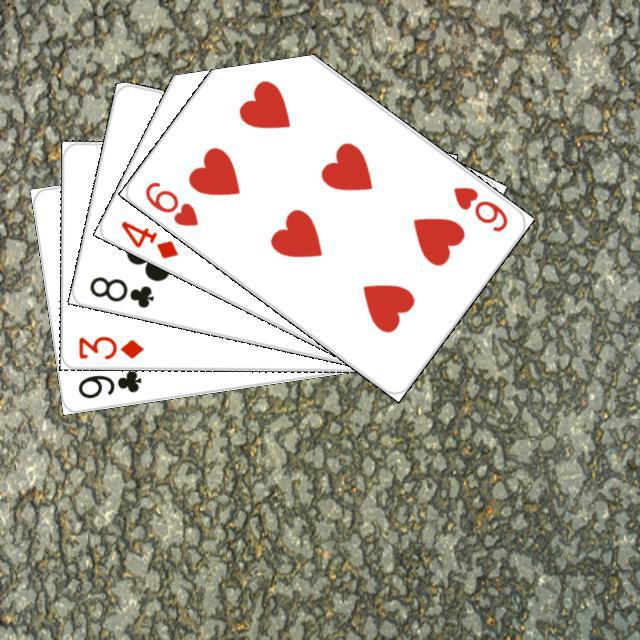3d: (73, 331, 145, 361)
4d: (116, 215, 180, 261)
6h: (448, 181, 510, 234), (139, 176, 200, 229)
8c: (84, 271, 156, 310)
9c: (73, 365, 143, 401)
